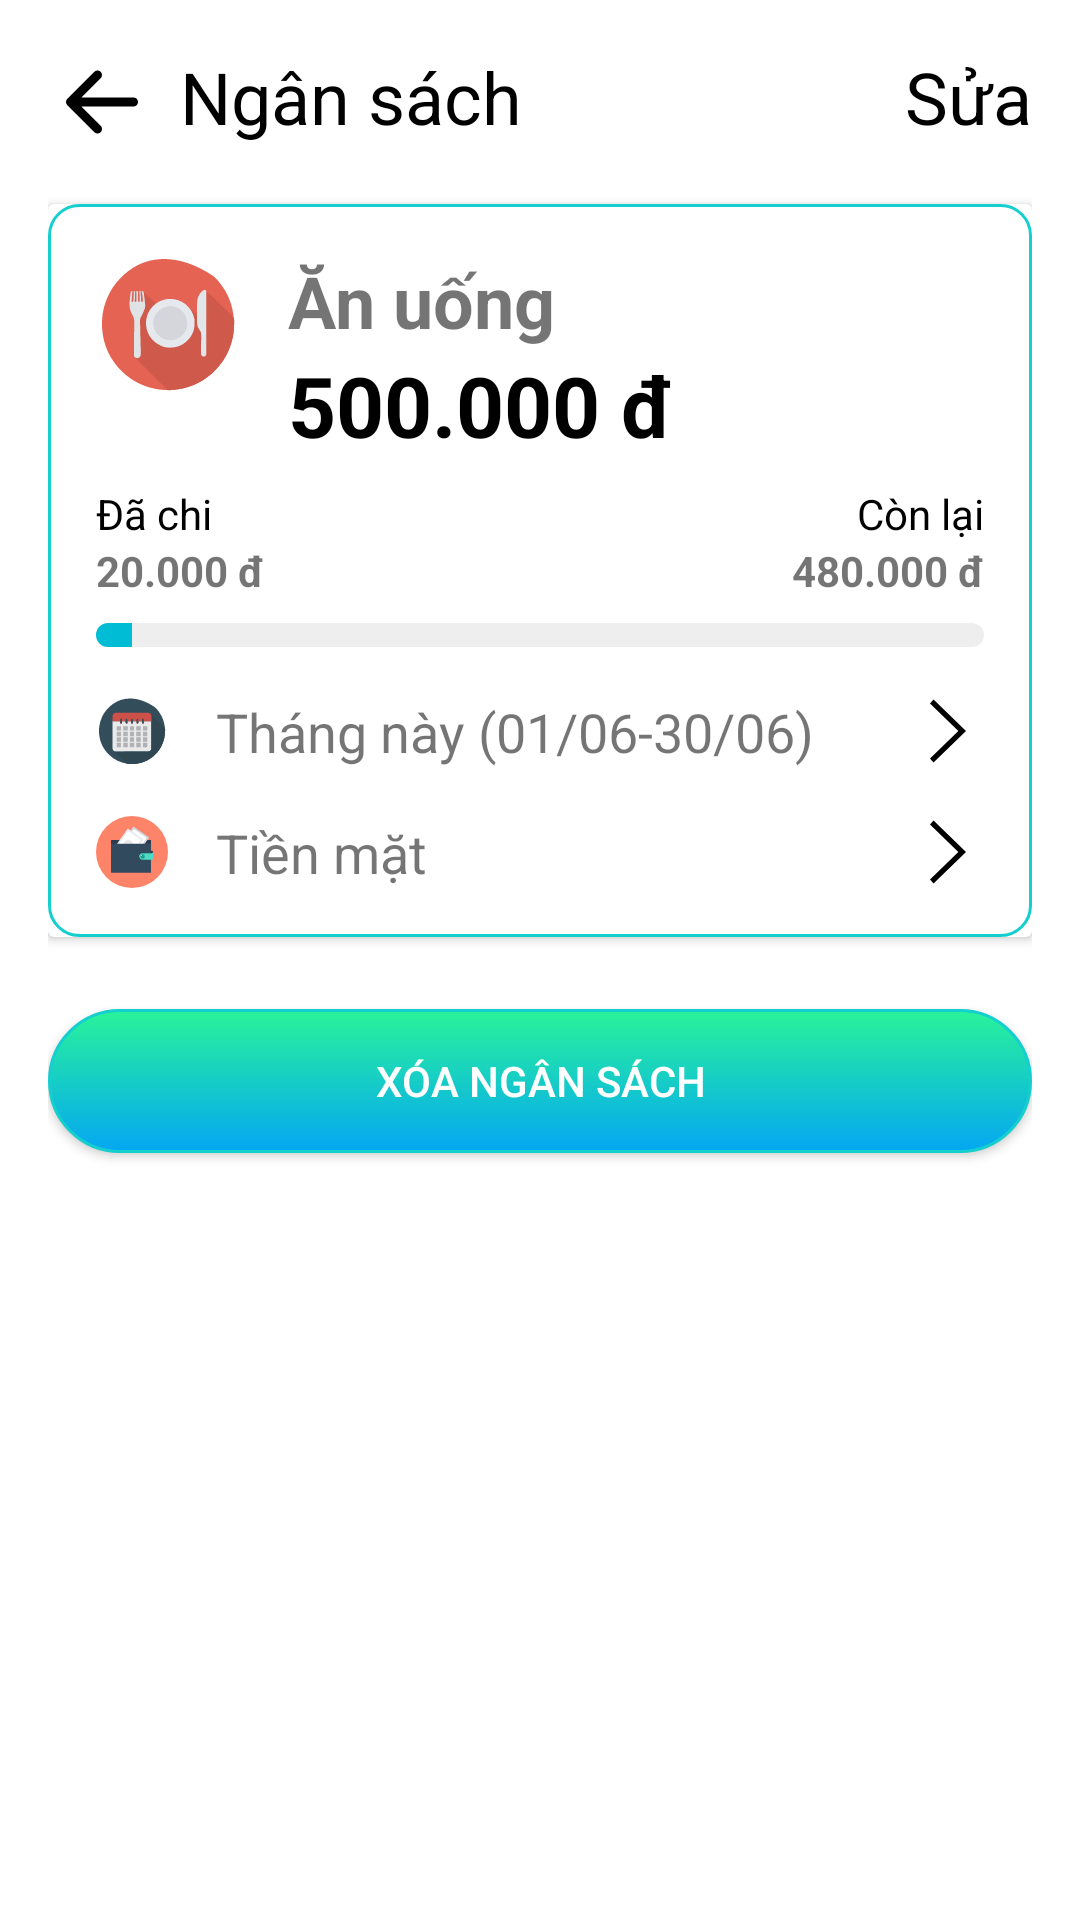

Screen size 1080px×1920px. Icon name, then its box in pixels as (x1, y1, x2, y2):
Back: (66, 70, 138, 134)
calendar: (99, 698, 166, 764)
Food icon: (102, 259, 235, 391)
right: (930, 699, 966, 763), (930, 820, 966, 884)
wallet: (96, 816, 168, 888)
